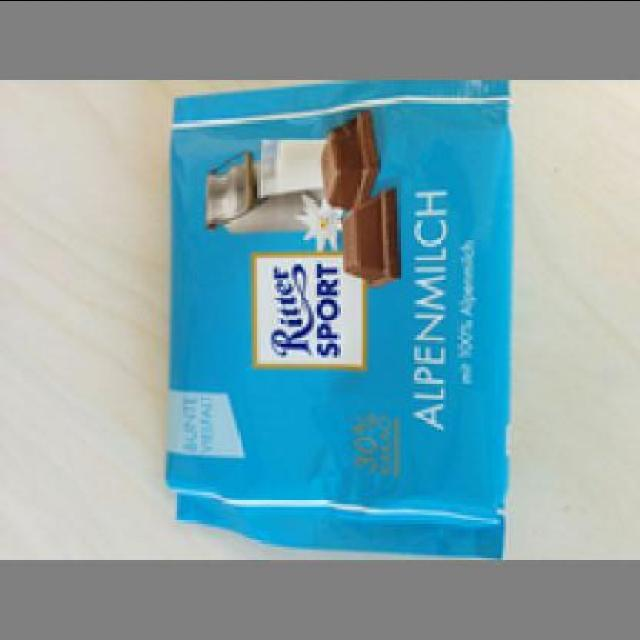Chocolate bar: (163, 86, 508, 560)
